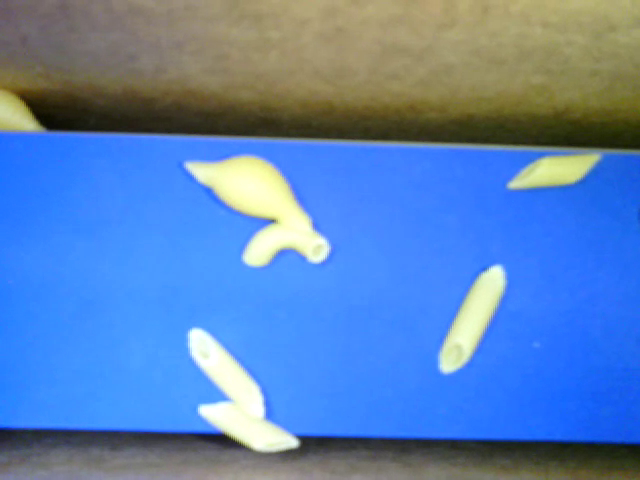elbow: (240, 219, 333, 269)
penne: (439, 261, 510, 376), (188, 326, 268, 414), (197, 402, 301, 456), (507, 154, 601, 189)
shell: (180, 156, 308, 222), (1, 90, 49, 128)
